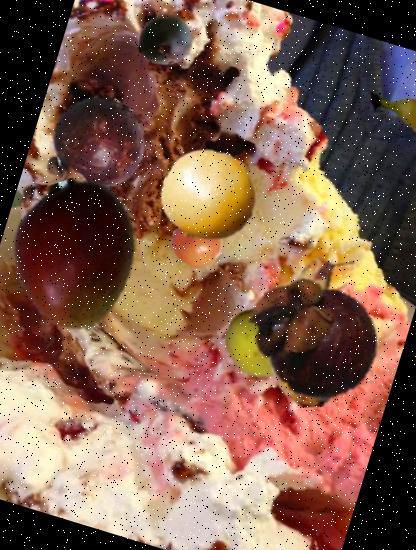Banana: (348, 76, 416, 201)
Grapefruit: (150, 135, 270, 255)
Mango: (0, 161, 170, 348)
Mangostan: (230, 251, 399, 420), (19, 81, 165, 227)
Peach: (211, 272, 340, 401)
Pear: (222, 240, 406, 425)
Plum: (129, 5, 200, 76)
Tangelo: (164, 211, 230, 276)
